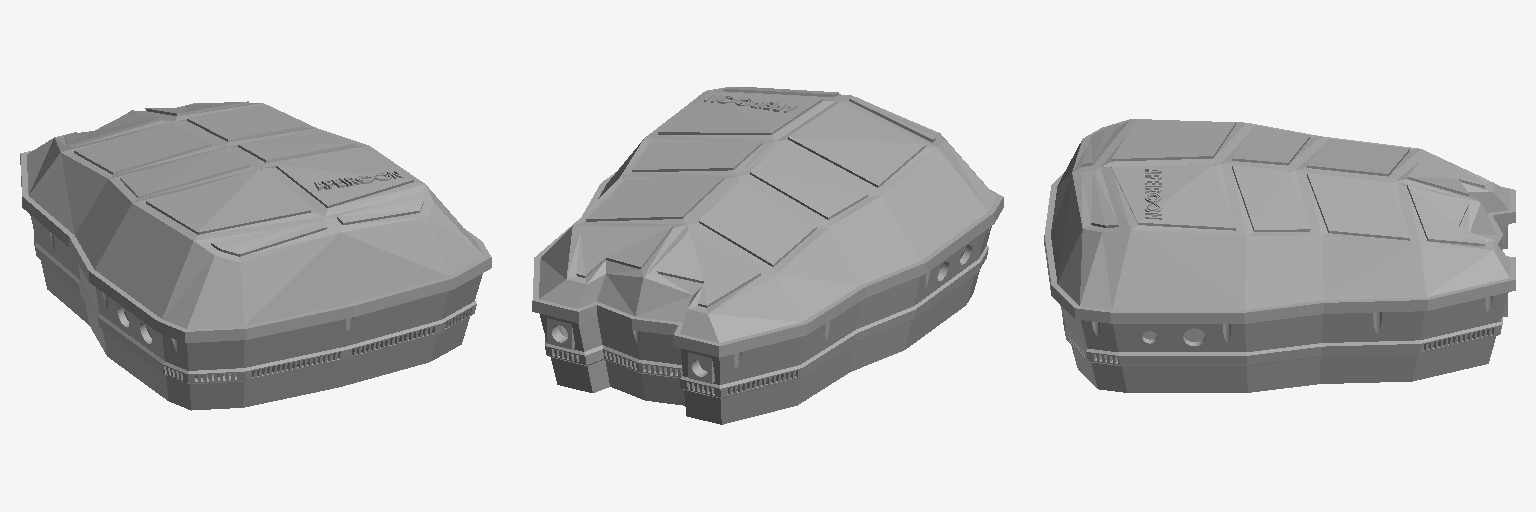
URDF robot description (zainetto):
<?xml version="1.0"?>
<robot name="zainetto">
  <link name="base_link">
    <visual>
      <origin xyz="0 0 0" rpy="0 0 0"/>
      <geometry>
        <mesh filename="package://B100x/meshes/Zainetto_2_96_MOD10_DEF.stl" scale="0.001 0.001 0.001"/>
      </geometry>
      <material name="gray">
        <color rgba="0.7 0.7 0.7 1.0"/>
      </material>
    </visual>

    <collision>
      <origin xyz="0 0 0" rpy="0 0 0"/>
      <geometry>
        <mesh filename="package://B100x/meshes/Zainetto_2_96_MOD10_DEF.stl" scale="0.001 0.001 0.001"/>
      </geometry>
    </collision>

    <inertial>
      <origin xyz="0 0 0" rpy="0 0 0"/>
      <mass value="1.0"/>
      <inertia ixx="0.01" ixy="0.0" ixz="0.0"
               iyy="0.01" iyz="0.0"
               izz="0.01"/>
    </inertial>
  </link>
</robot>

--- Facts derived from the render (not from the file) ---
Views: 3 orthographic renders of the robot side by side, from view 1: azimuth 30°, elevation 25°; view 2: azimuth 150°, elevation 25°; view 3: azimuth 270°, elevation 25°.
Model zainetto with 1 links and 0 joints (none), rooted at base_link, posed all joints at 0.
Visible links, largest first — view 1: base_link; view 2: base_link; view 3: base_link.
Boxes of the visible links, x1,y1,x2,y2 form: base_link: (20, 101, 491, 410); base_link: (532, 87, 1003, 424); base_link: (1044, 119, 1515, 392).
Bounding box of the posed robot: 0.3982 × 0.5082 × 0.1962 m (x, y, z).
Meshes: 1 distinct files referenced, 1 mesh visuals loaded (1 binary STL).
